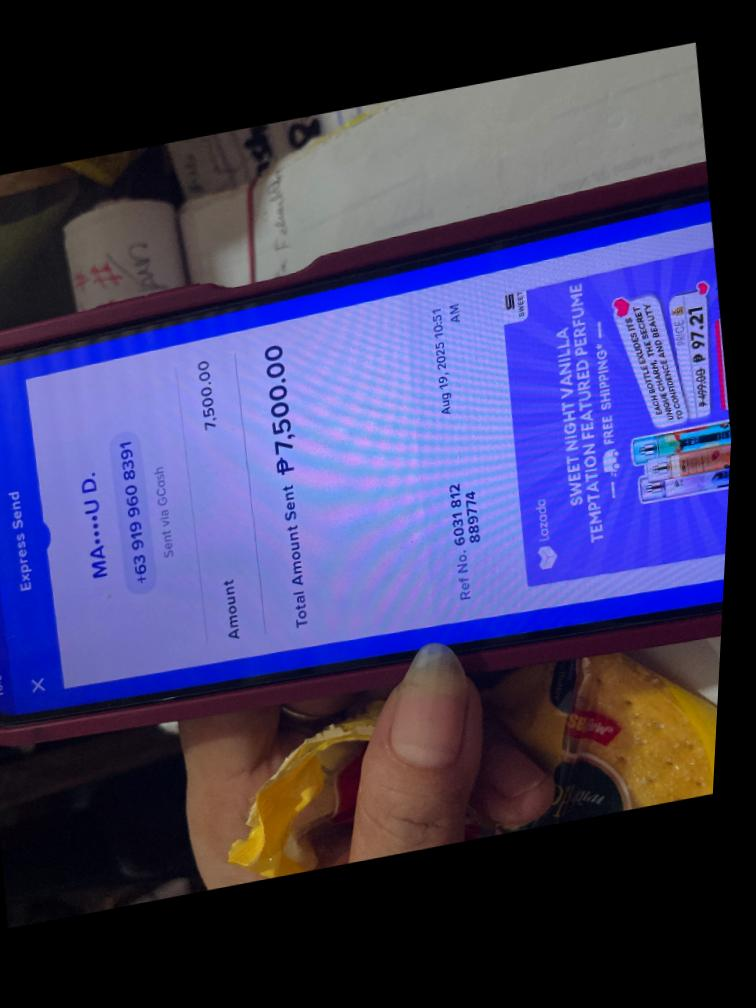Receipt: (0, 199, 731, 717)
